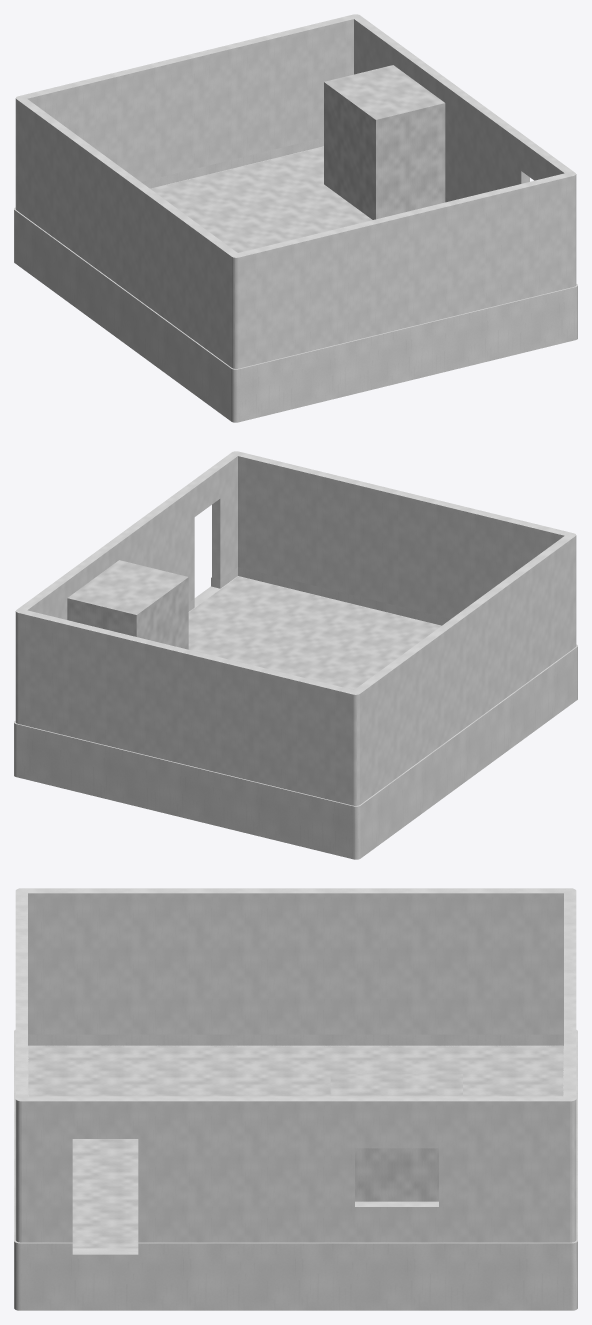
File: SM_Homes_H04_Shell.glb
The picture shows the model from 3 angles, top to bottom: view 1: azimuth 30°, elevation 25°; view 2: azimuth 150°, elevation 25°; view 3: azimuth 270°, elevation 25°; orthographic projection. The views are drawn at different scales.
Parts seen in each view (by area): view 1: SM_Homes_H04_Shell; view 2: SM_Homes_H04_Shell; view 3: SM_Homes_H04_Shell.
Part boxes in pixels (<box>): SM_Homes_H04_Shell: <box>14,14,577,422</box>; SM_Homes_H04_Shell: <box>14,451,577,859</box>; SM_Homes_H04_Shell: <box>14,888,577,1310</box>.
Bounding box in the file's own units: 9.06 × 4.11 × 10.06.
Materials: 3 (3 with a texture image).
